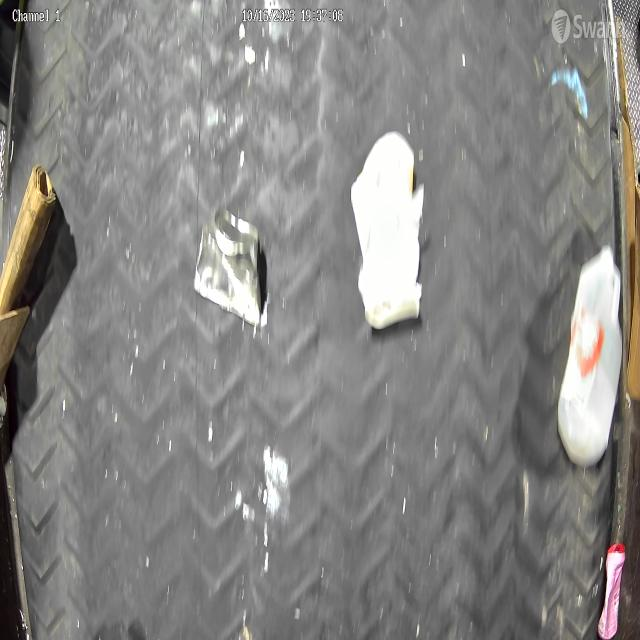can: (192, 205, 265, 329)
milk_jug: (556, 243, 624, 472)
